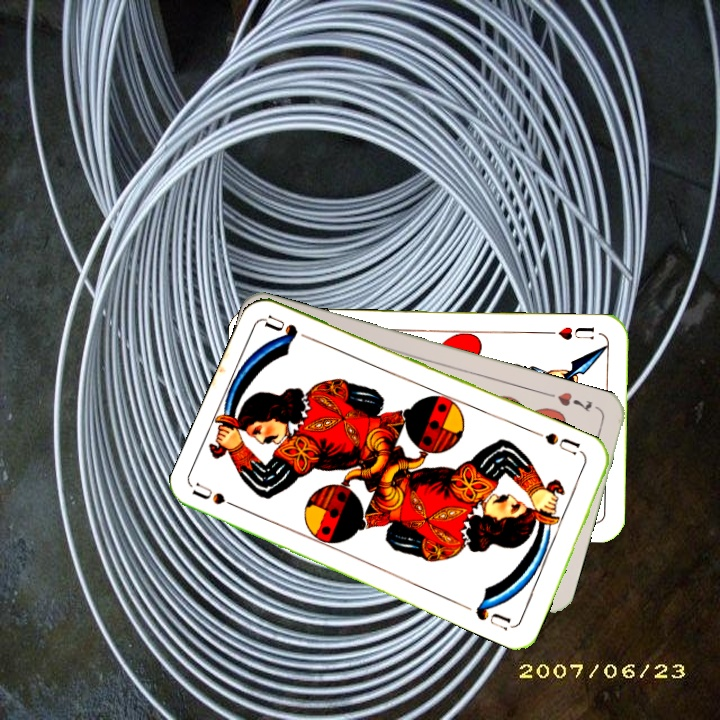H7: (553, 388, 595, 415)
HU: (543, 322, 597, 342)
SU: (190, 479, 248, 514), (541, 428, 588, 460)
